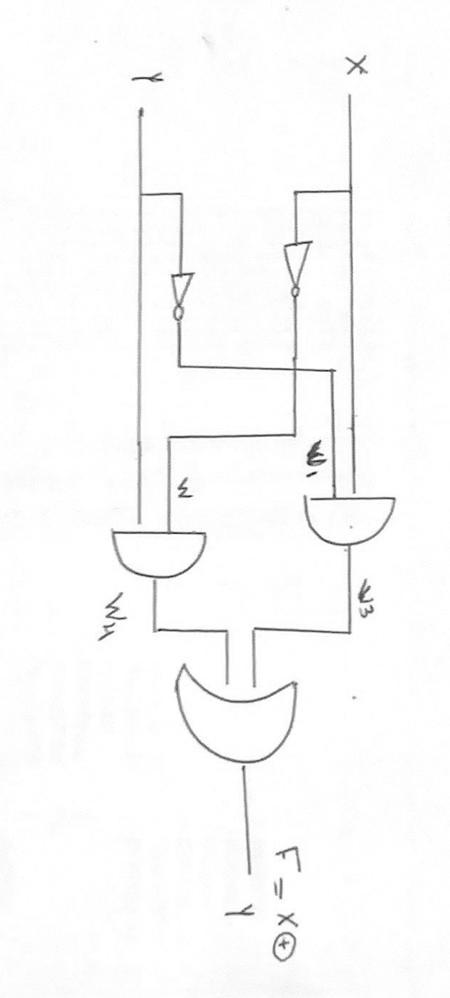AND: (102, 518, 225, 593), (294, 486, 408, 557)
NOT: (262, 234, 328, 311), (160, 264, 209, 332)
OR: (160, 658, 336, 779)
